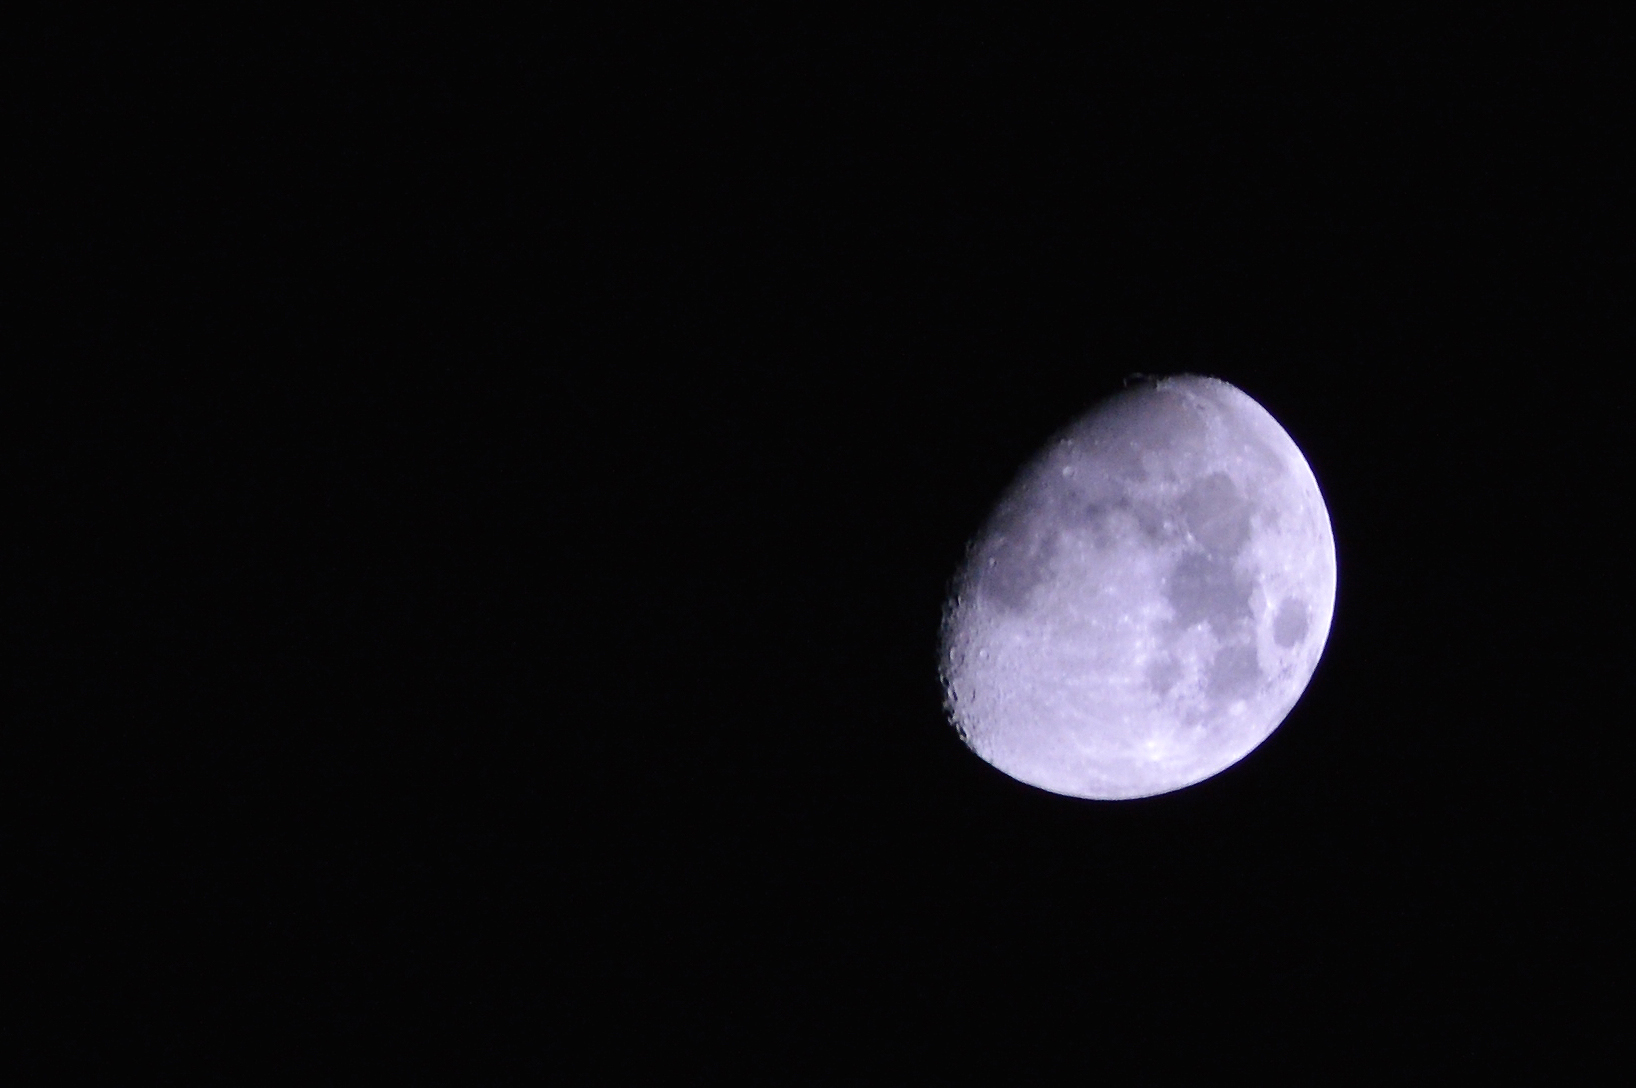crater: (1053, 455, 1089, 499), (1223, 682, 1252, 729), (970, 644, 996, 665)
